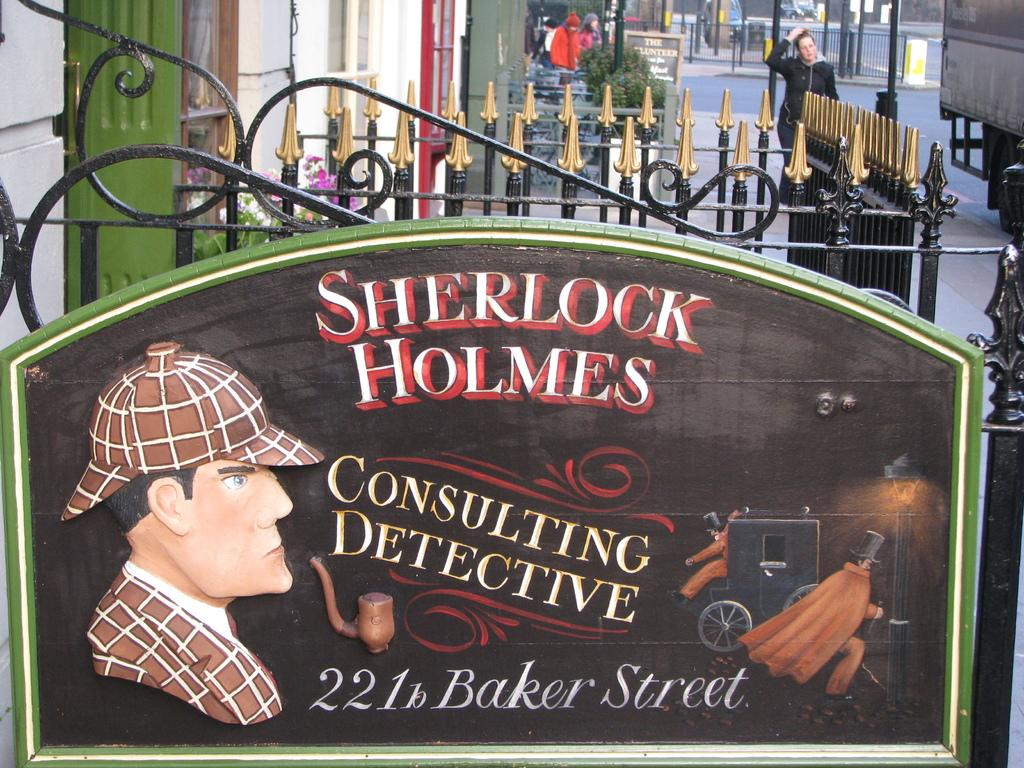Hat: (56, 341, 326, 522)
